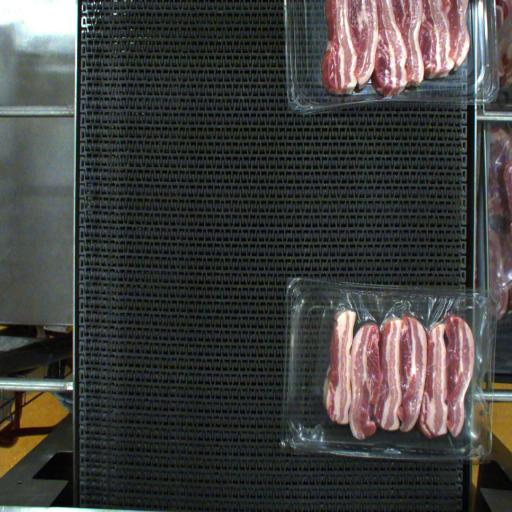unsealed: (311, 290, 483, 457)
